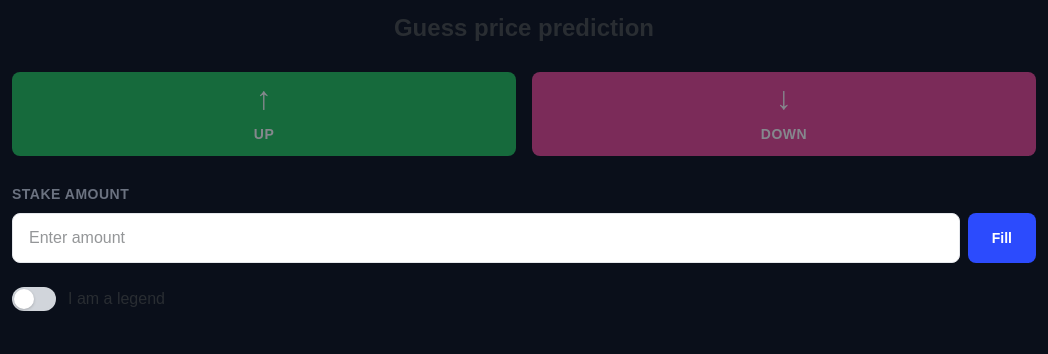
Test: PredictionControls › rejects stakes that exceed wallet balance with an error alert
In the number field labelled "Stake Amount": (486, 238) [12,213,960,263], type "50"
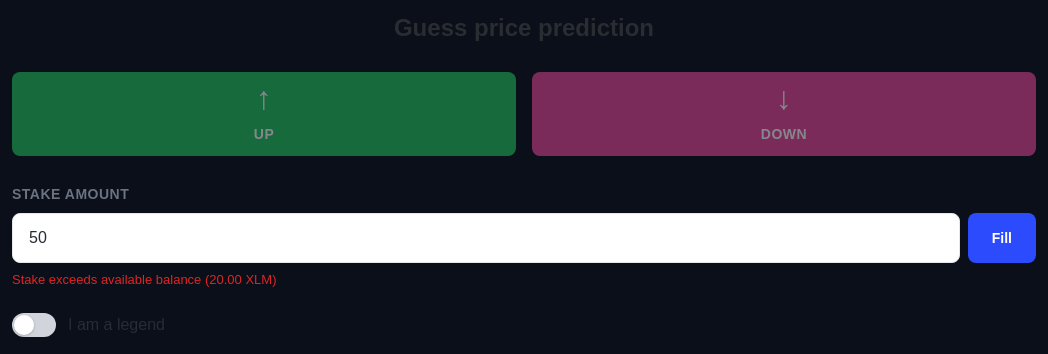
Expected: the button "↑ UP" is disabled, [12,72,516,156]
Expected: the message shows "Stake exceeds available balance", [12,272,276,287]
